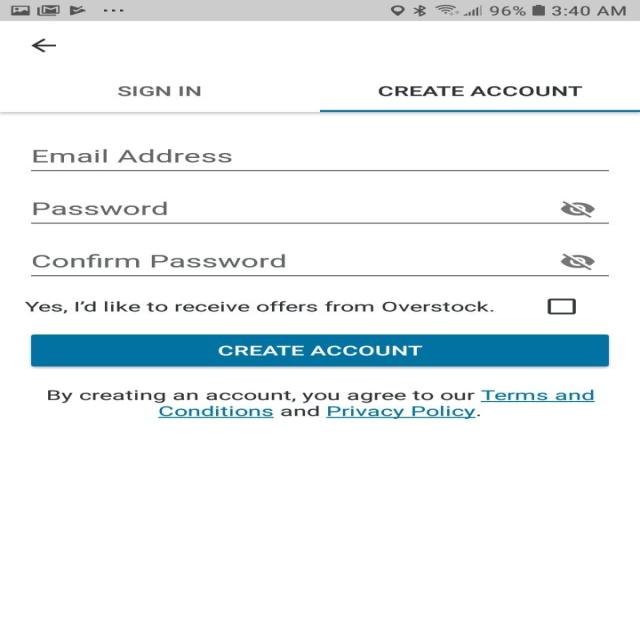EditText: (30, 148, 609, 172), (30, 201, 608, 224), (30, 254, 609, 276)
Icon: (559, 200, 595, 218), (559, 253, 595, 271), (31, 38, 57, 53)
Text: (47, 389, 595, 419), (24, 300, 494, 314), (32, 254, 286, 268), (33, 149, 232, 163), (378, 85, 582, 96), (33, 201, 167, 215), (118, 86, 200, 98)
TextButton: (31, 334, 609, 367)
